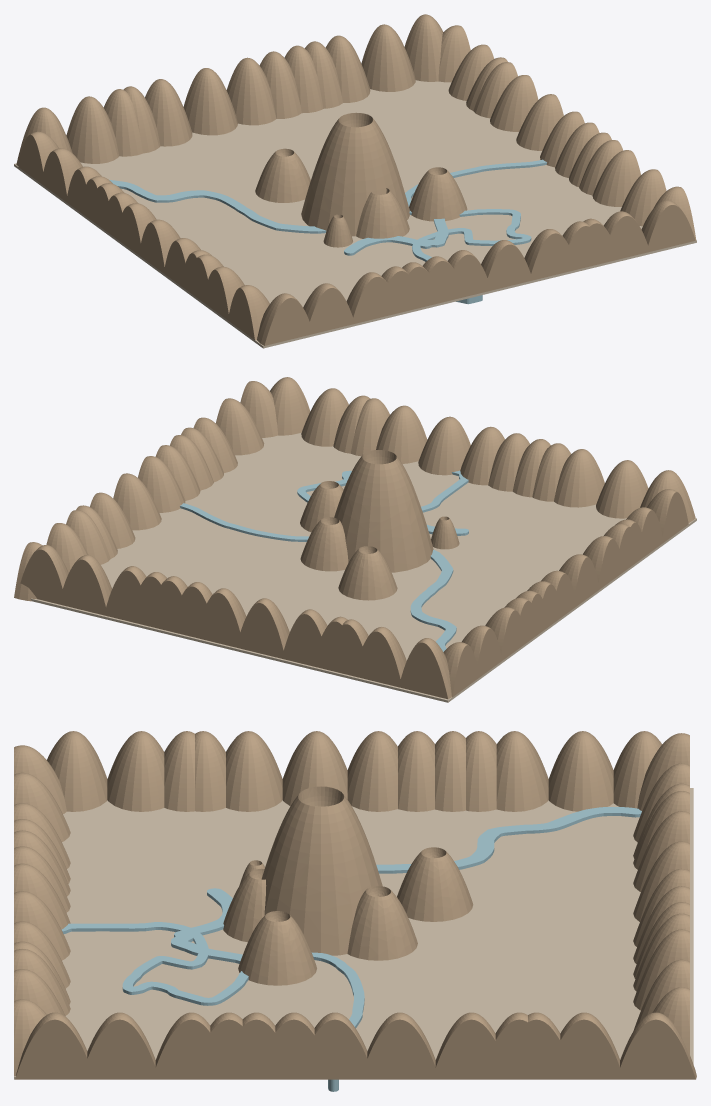
The model's file is Magnificent Stantia-Duup.glb.
The picture shows the model from 3 angles, top to bottom: view 1: azimuth 30°, elevation 25°; view 2: azimuth 150°, elevation 25°; view 3: azimuth 270°, elevation 25°; orthographic projection. The views are drawn at different scales.
Visible parts, largest first — view 1: Mesh_Mesh_head_geo.001_lambert2SG.001; view 2: Mesh_Mesh_head_geo.001_lambert2SG.001; view 3: Mesh_Mesh_head_geo.001_lambert2SG.001.
Boxes of the visible parts, x1,y1,x2,y2 form: Mesh_Mesh_head_geo.001_lambert2SG.001: [14, 14, 696, 348]; Mesh_Mesh_head_geo.001_lambert2SG.001: [14, 377, 696, 702]; Mesh_Mesh_head_geo.001_lambert2SG.001: [14, 731, 696, 1091].
Size of the model in its own units: 200 by 50.4 by 200.
